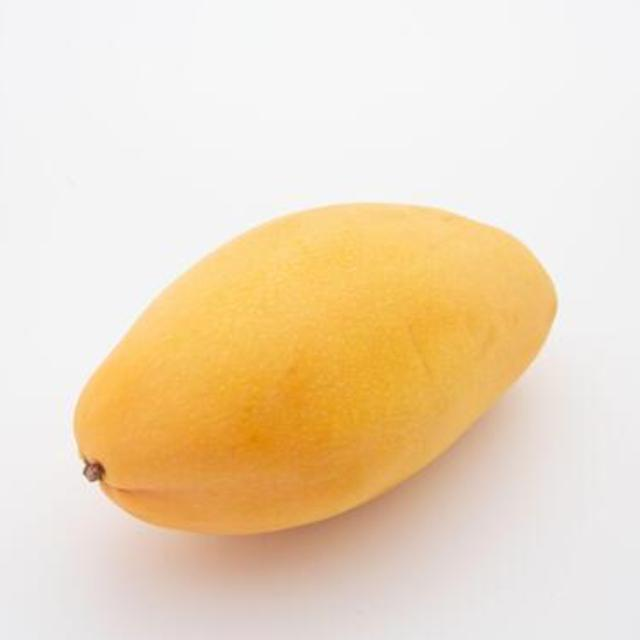mango: (75, 196, 560, 542)
